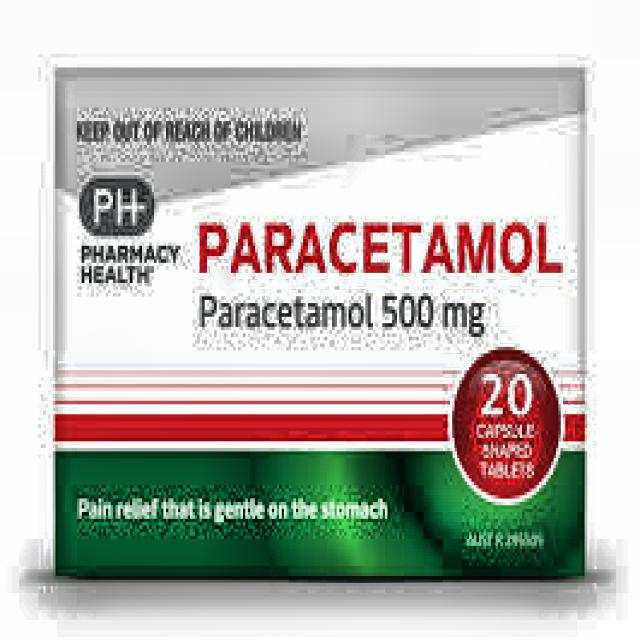Paracetamol: (190, 205, 569, 332)
